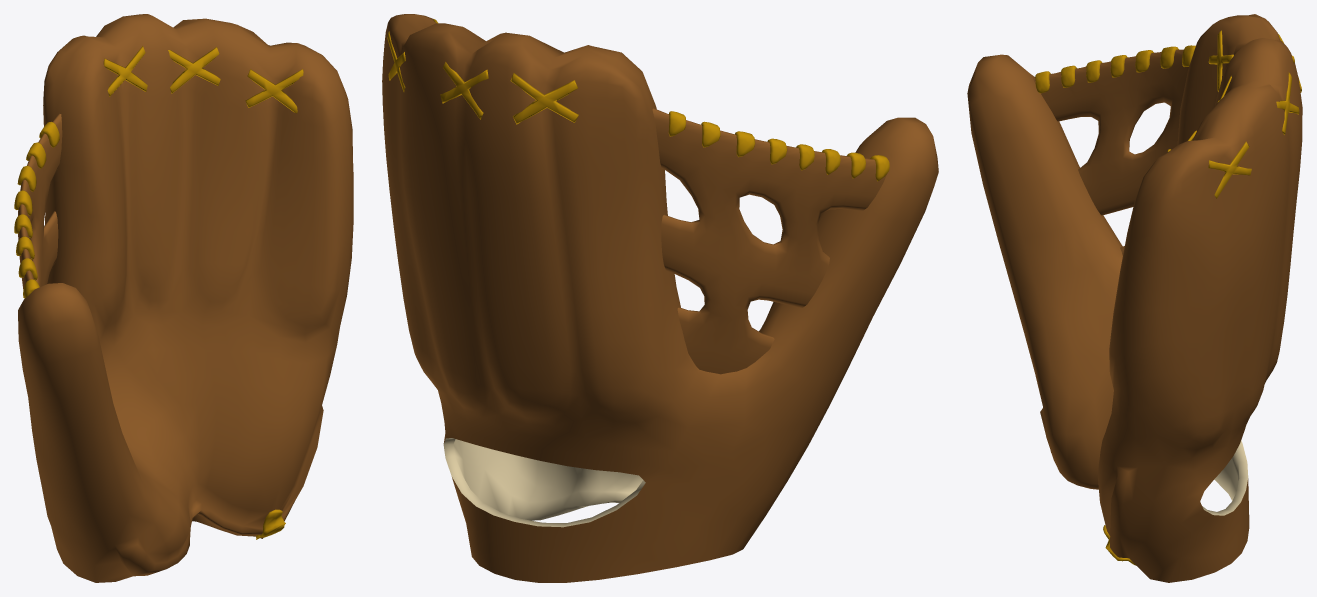
The model's file is grove.fbx.
The picture shows the model from 3 angles, left to right: view 1: azimuth 30°, elevation 25°; view 2: azimuth 150°, elevation 25°; view 3: azimuth 270°, elevation 25°; orthographic projection. The views are drawn at different scales.
Visible parts, largest first — view 1: baseball_glove; view 2: baseball_glove; view 3: baseball_glove.
Boxes of the visible parts, x1,y1,x2,y2 form: baseball_glove: (14,14,353,582); baseball_glove: (382,14,938,582); baseball_glove: (967,14,1302,582).
Bounding box in the file's own units: 13.57 × 16.08 × 9.68.
